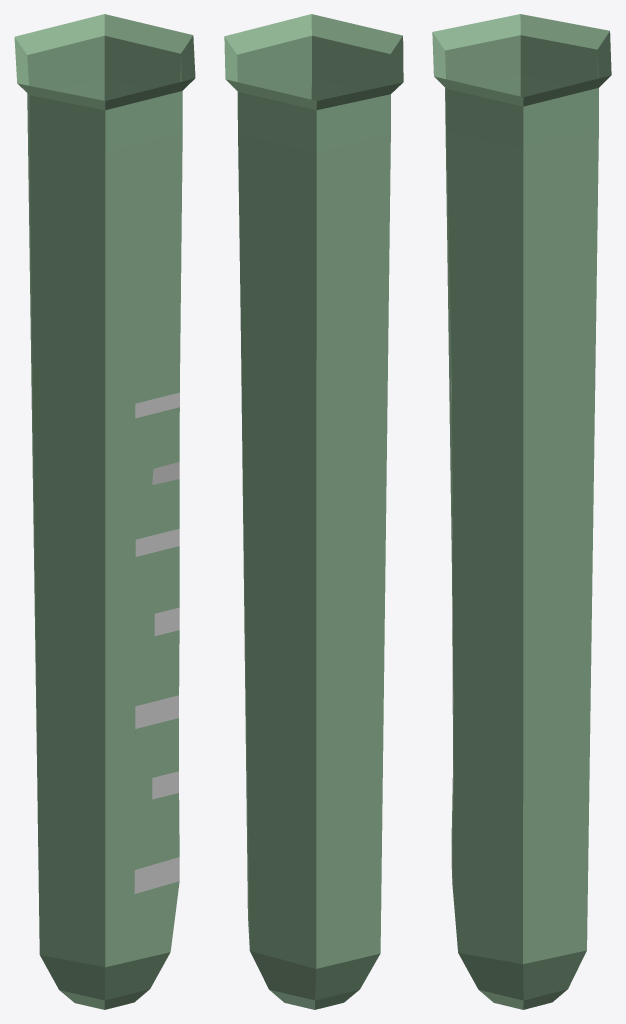
3 renders of one model, left to right at view 1: azimuth 30°, elevation 25°; view 2: azimuth 150°, elevation 25°; view 3: azimuth 270°, elevation 25°, orthographic.
Visible parts, largest first — view 1: test tube; view 2: test tube; view 3: test tube.
Boxes of the visible parts, x1=… form: test tube: x1=14, y1=14, x2=195, y2=1009; test tube: x1=224, y1=14, x2=403, y2=1009; test tube: x1=432, y1=14, x2=611, y2=1009.
Size of the model in its own units: 51.01 by 257 by 44.4.
